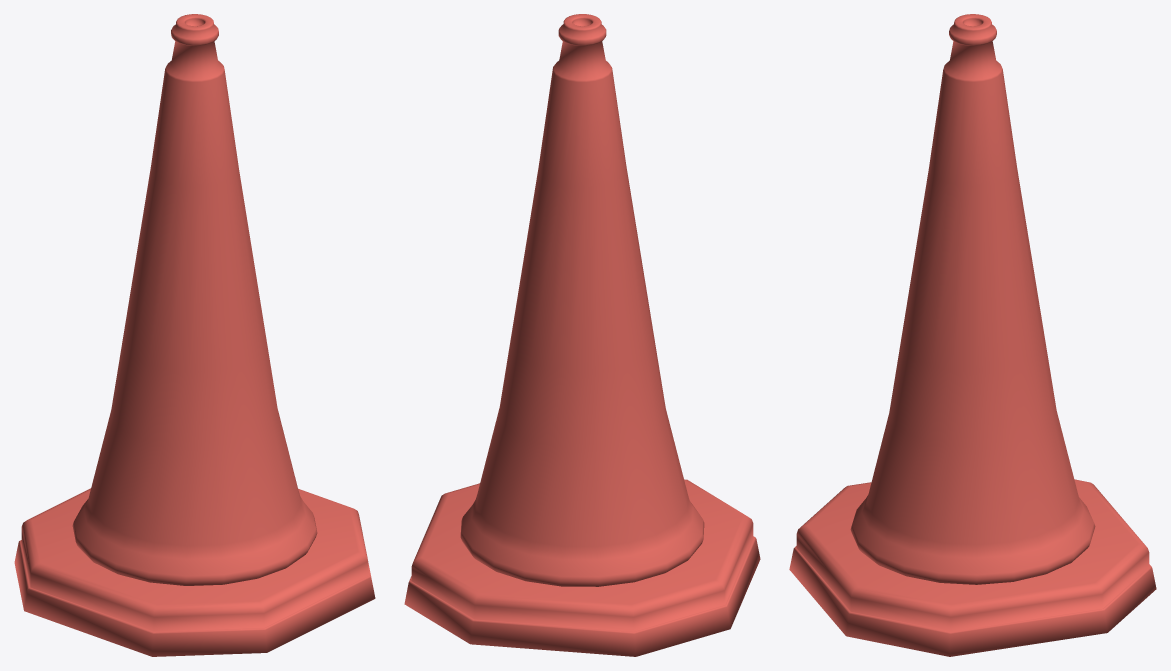
The picture shows the model from 3 angles, left to right: view 1: azimuth 30°, elevation 25°; view 2: azimuth 150°, elevation 25°; view 3: azimuth 270°, elevation 25°; orthographic projection.
Visible parts, largest first — view 1: Cone.001; view 2: Cone.001; view 3: Cone.001.
Part boxes in pixels (x1,y1,x2,y2): Cone.001: (14,14,375,656); Cone.001: (404,14,760,656); Cone.001: (789,14,1156,656).
Size of the model in its own units: 98.3 by 165 by 98.3.
